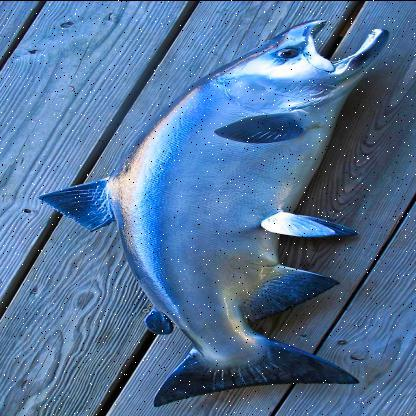fish: (38, 20, 386, 406)
